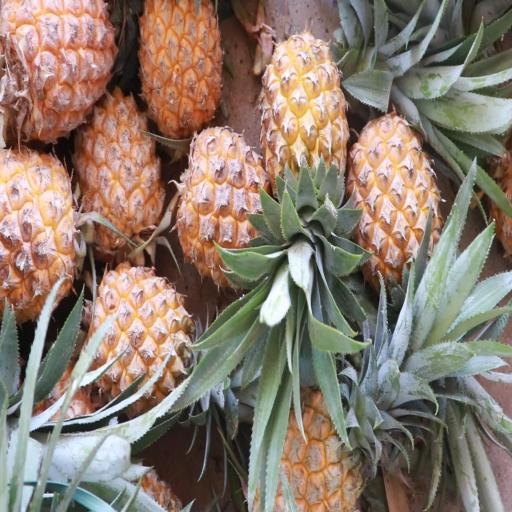Pineapple - v8 v1: (343, 107, 446, 301), (257, 30, 350, 226), (80, 258, 195, 416), (0, 0, 121, 149), (174, 120, 277, 290), (70, 80, 167, 256), (0, 141, 83, 323), (136, 0, 226, 146)
